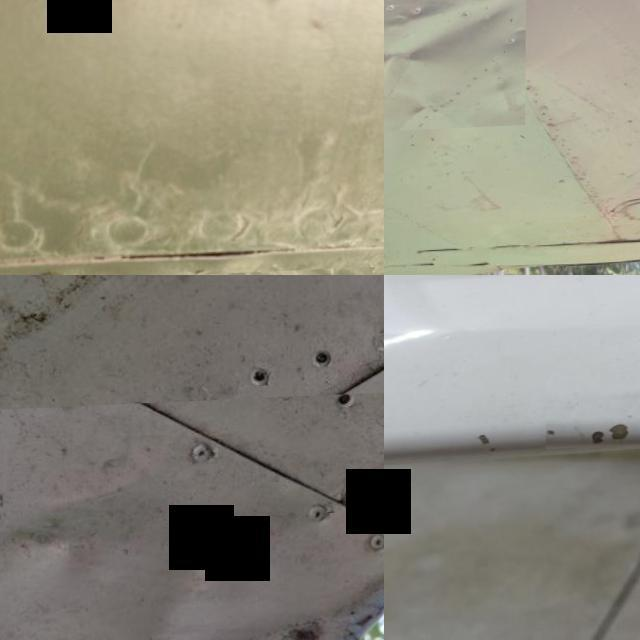Crack: (546, 417, 640, 451), (465, 424, 504, 461)
Dent: (0, 392, 384, 640), (384, 0, 526, 140)
